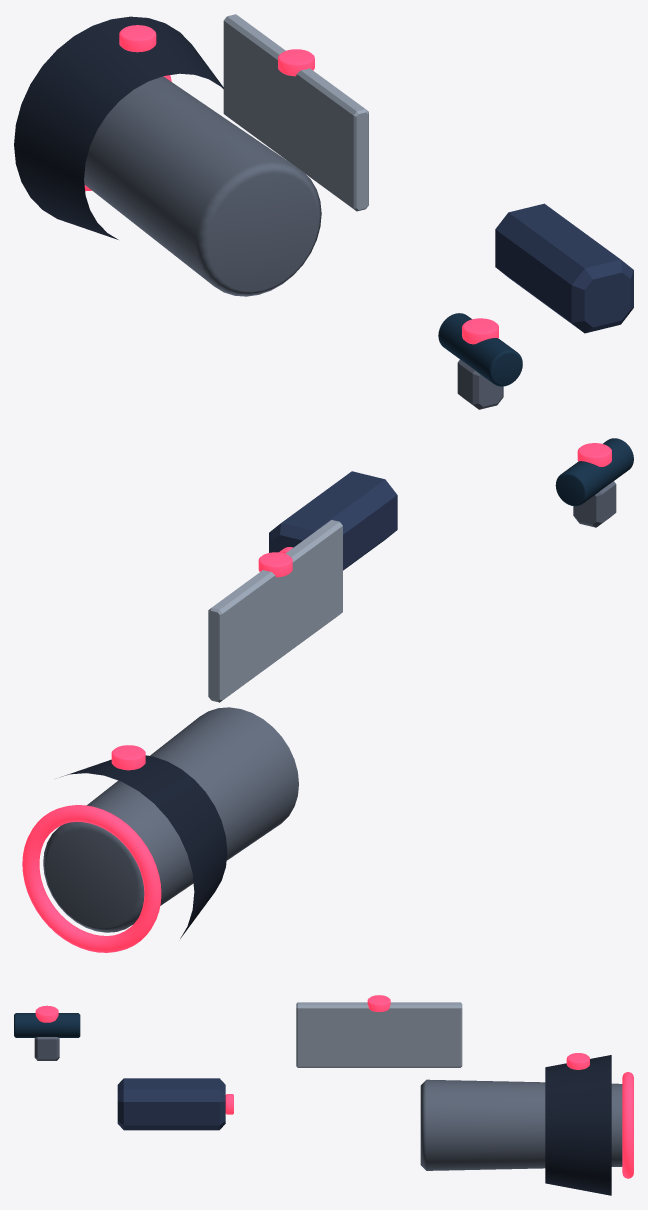
The model's file is tower_filament_optics_s6.glb.
The picture shows the model from 3 angles, top to bottom: view 1: azimuth 30°, elevation 25°; view 2: azimuth 150°, elevation 25°; view 3: azimuth 270°, elevation 25°; orthographic projection. The views are drawn at different scales.
Parts seen in each view (by area): view 1: filament_tube_ext, filament_lens_hood, filament_stab_fin, filament_rangefinder, filament_sight_glass, filament_sight_mount, filament_up_optics_l3_stud, filament_up_optics_l6_stud, filament_up_optics_l2_stud; view 2: filament_tube_ext, filament_stab_fin, filament_lens_hood, filament_tube_ext_ring, filament_rangefinder, filament_sight_glass, filament_sight_mount, filament_up_optics_l3_stud; view 3: filament_tube_ext, filament_stab_fin, filament_lens_hood, filament_rangefinder, filament_sight_glass, filament_tube_ext_ring, filament_sight_mount, filament_up_optics_l3_stud, filament_up_optics_l6_stud, filament_up_optics_l2_stud.
Boxes of the visible parts, x1,y1,x2,y2 form: filament_tube_ext: (84, 76, 321, 296); filament_lens_hood: (14, 16, 223, 239); filament_stab_fin: (223, 14, 368, 211); filament_rangefinder: (495, 203, 633, 333); filament_sight_glass: (438, 313, 522, 386); filament_sight_mount: (457, 359, 503, 409); filament_up_optics_l3_stud: (119, 25, 156, 52); filament_up_optics_l6_stud: (278, 49, 314, 76); filament_up_optics_l2_stud: (462, 318, 498, 344); filament_tube_ext: (43, 707, 298, 932); filament_stab_fin: (208, 520, 342, 702); filament_lens_hood: (60, 755, 227, 938); filament_tube_ext_ring: (22, 805, 161, 952); filament_rangefinder: (269, 471, 397, 570); filament_sight_glass: (555, 438, 633, 506); filament_sight_mount: (573, 481, 616, 527); filament_up_optics_l3_stud: (111, 745, 145, 770); filament_tube_ext: (420, 1079, 622, 1170); filament_stab_fin: (296, 1002, 462, 1067); filament_lens_hood: (545, 1055, 611, 1195); filament_rangefinder: (117, 1078, 225, 1130); filament_sight_glass: (14, 1013, 80, 1037); filament_tube_ext_ring: (622, 1072, 633, 1178); filament_sight_mount: (34, 1037, 59, 1060); filament_up_optics_l3_stud: (566, 1053, 589, 1069); filament_up_optics_l6_stud: (367, 995, 390, 1011); filament_up_optics_l2_stud: (35, 1005, 58, 1022).
Bounding box in the file's own units: 0.4044 × 0.5046 × 1.49.
